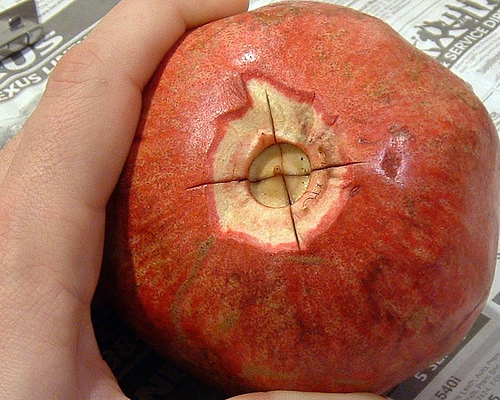pomogranate: (96, 0, 499, 397)
